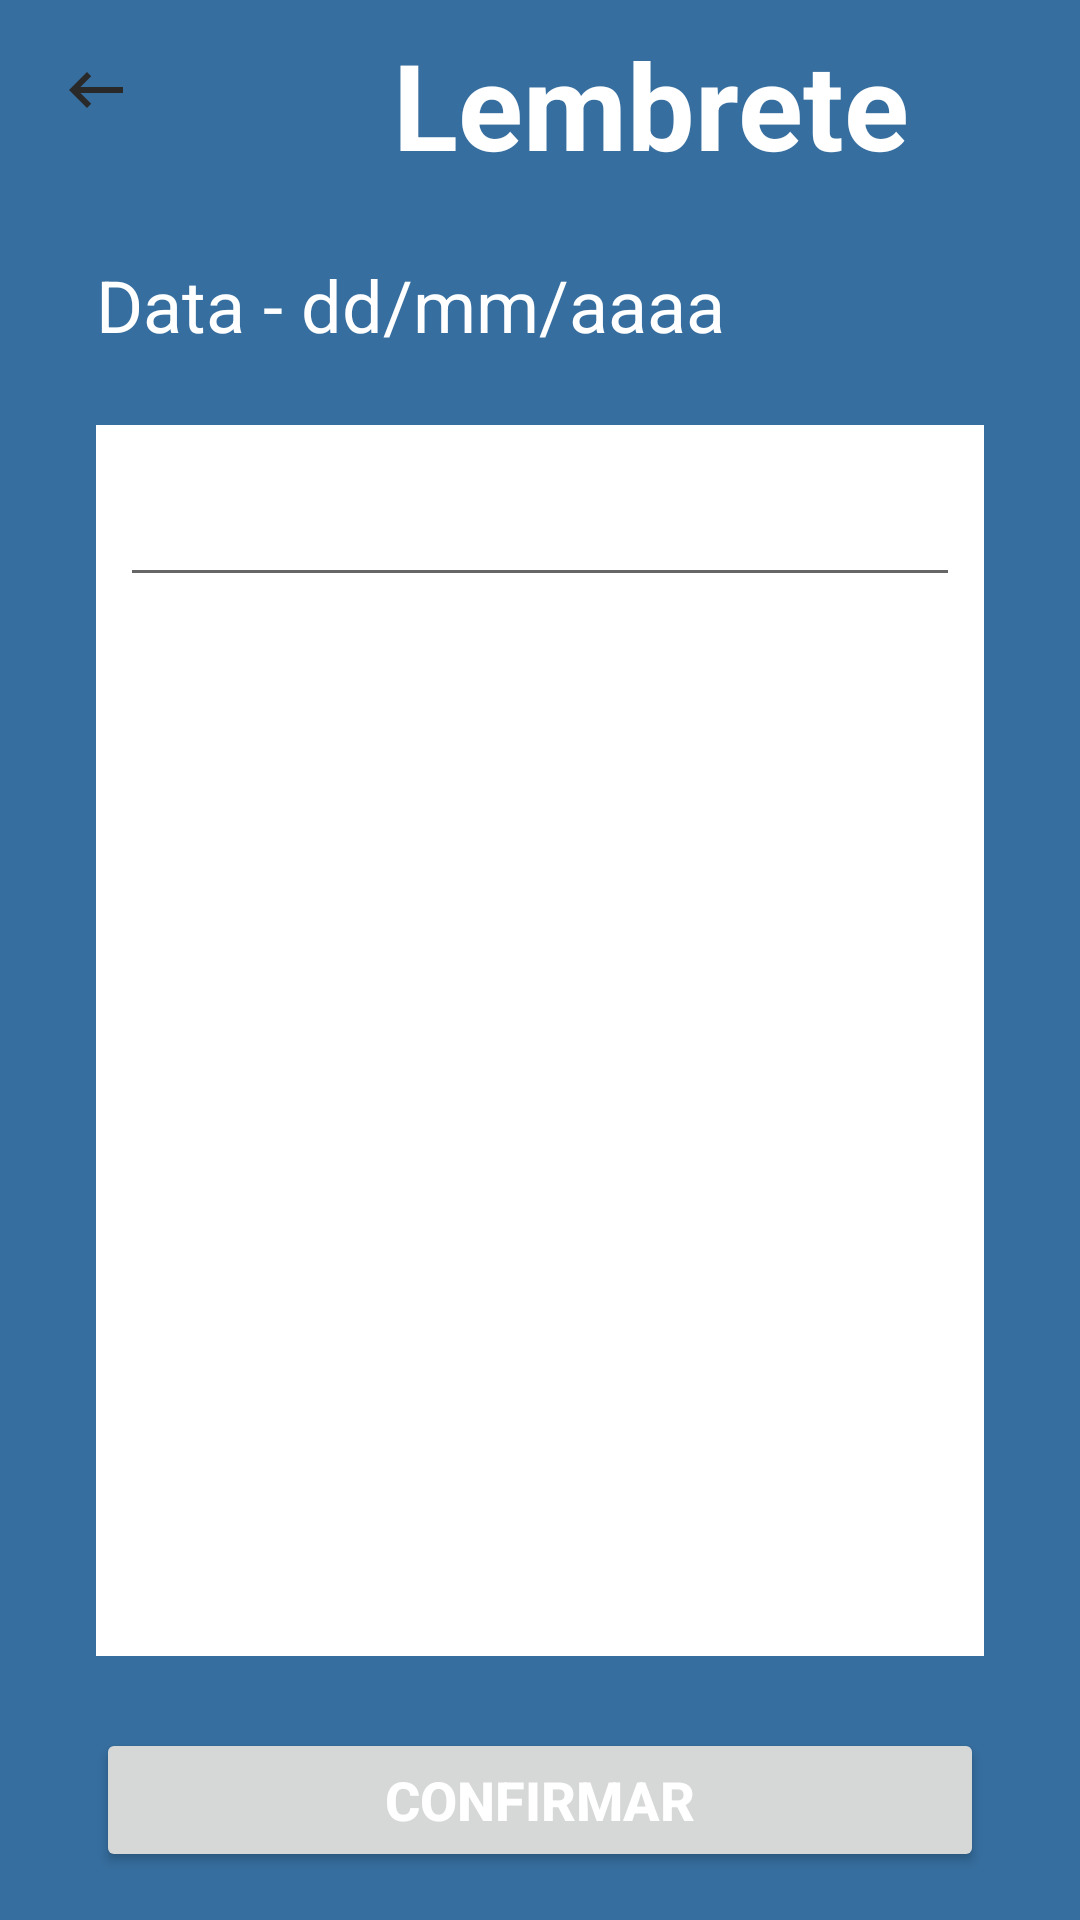

Screen size 1080×1920. Icon name, then its box in pixels as (x1, y1, x2, y2):
keyboard backspace: (69, 72, 123, 108)
